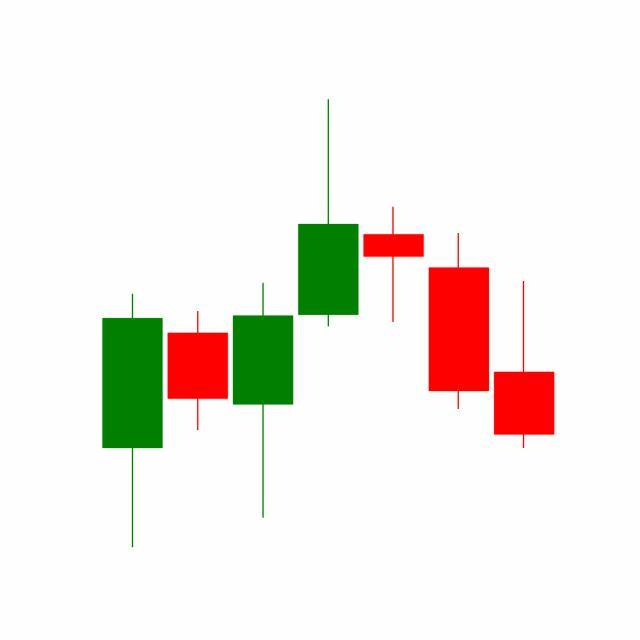Hikkake Pattern: (165, 99, 492, 523)
